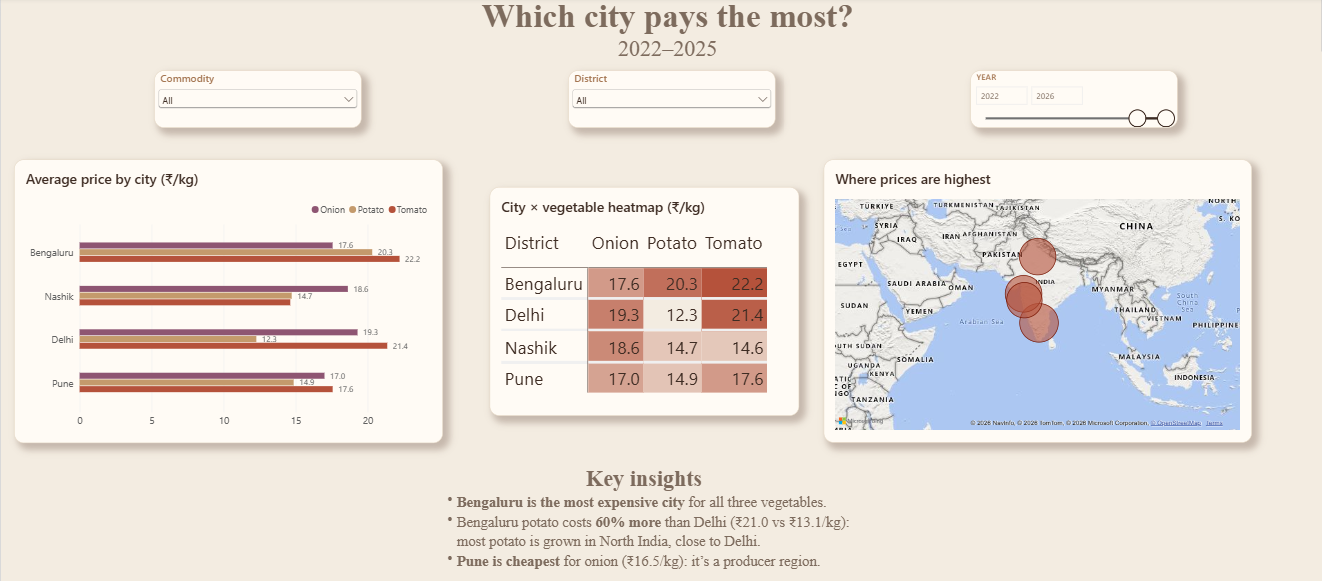

Layout of this report page (visuals, bound fields, positions):
{"tool":"powerbi","page":{"name":"Cities","canvas":[1920,1080],"ordinal":2},"visuals":[{"type":"textbox","box":[19.9,0,1900.1,92.9],"z":0},{"type":"slicer","fields":{"Values":["prices.Commodity"]},"box":[221.2,106.1,300,83.3],"z":1},{"type":"slicer","fields":{"Values":["Districts.District"]},"box":[821.6,106.1,300,83.3],"z":2},{"type":"slicer","fields":{"Values":["Date.YEAR"]},"box":[1404,106.1,300,83.3],"z":3},{"type":"clusteredBarChart","title":"Average price by city (₹/kg)","fields":{"Category":["Districts.District"],"Series":["prices.Commodity"],"Y":["prices.Average ₹/kg"]},"box":[19.3,235,620.3,410.4],"z":4},{"type":"pivotTable","title":"City × vegetable heatmap (₹/kg)","fields":{"Columns":["prices.Commodity"],"Rows":["Districts.District"],"Values":["prices.Average ₹/kg"]},"box":[672.6,234.7,555.3,331.8],"z":5},{"type":"map","fields":{"Category":["Districts.District"],"Size":["prices.Average ₹/kg"]},"box":[19,655,620,410],"z":6}]}

Visuals, with their boxes on the page's 1920x1080 design canvas (x1, y1, x2, y2). These are canvas units, not pixel positions in the 1322x581 screenshot, which may show the page scaled, cropped or inside an application window:
textbox: [left=20, top=0, right=1920, bottom=93]
slicer - prices.Commodity: [left=221, top=106, right=521, bottom=189]
slicer - Districts.District: [left=822, top=106, right=1122, bottom=189]
slicer - Date.YEAR: [left=1404, top=106, right=1704, bottom=189]
"Average price by city (₹/kg)" clusteredBarChart: [left=19, top=235, right=640, bottom=645]
"City × vegetable heatmap (₹/kg)" pivotTable: [left=673, top=235, right=1228, bottom=566]
map - Districts.District x prices.Average ₹/kg: [left=19, top=655, right=639, bottom=1065]
